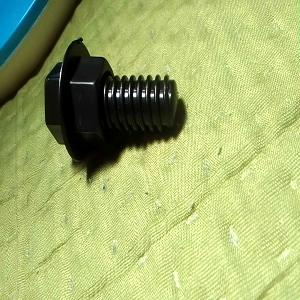parafuso: (44, 37, 179, 162)
